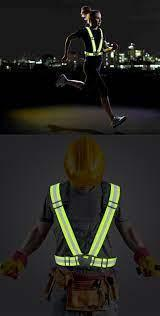Vest: (46, 182, 121, 269)
